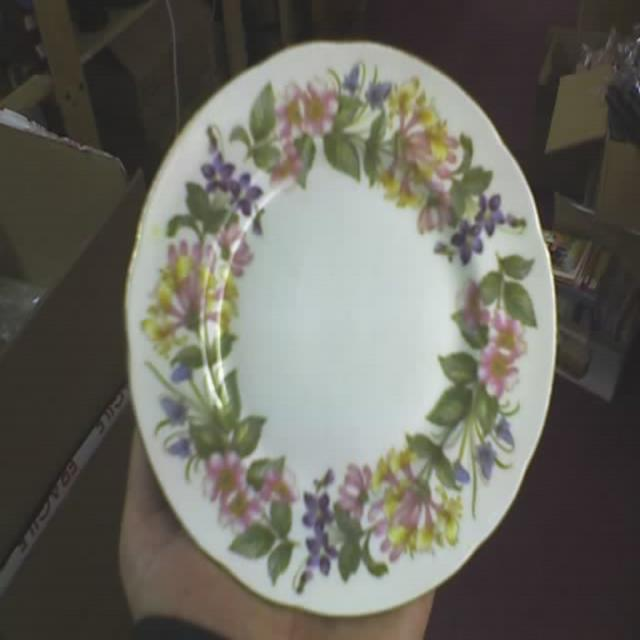non-organic waste: (128, 39, 548, 624)
